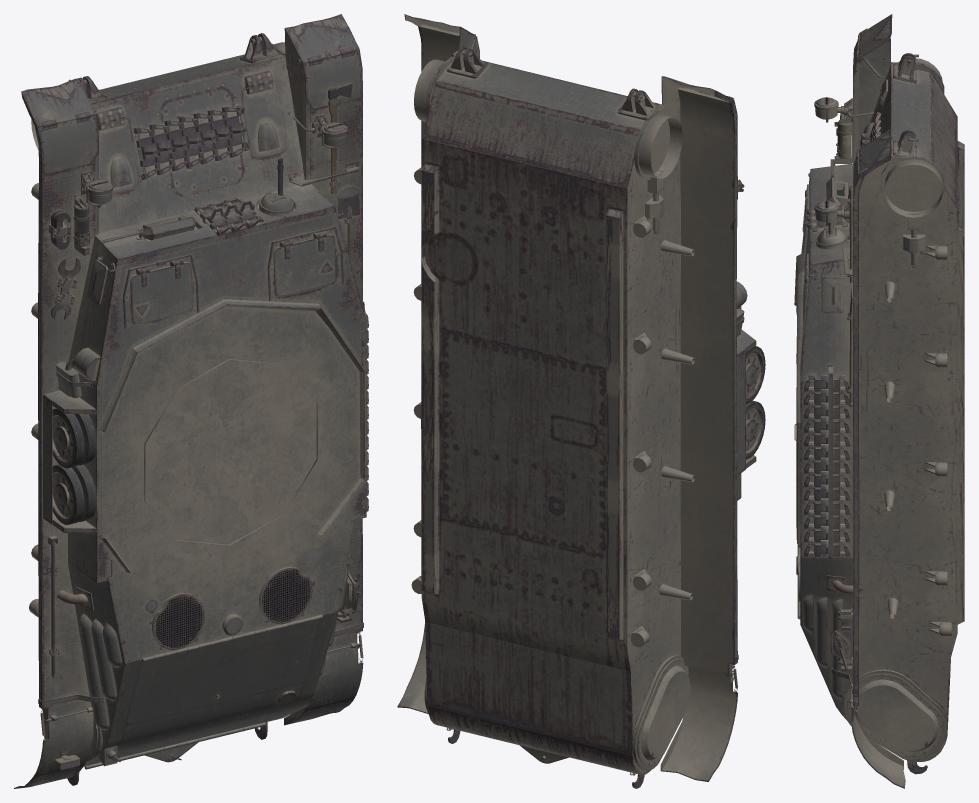
File: Hull.glb
3 views of the same model, side by side, from view 1: azimuth 30°, elevation 25°; view 2: azimuth 150°, elevation 25°; view 3: azimuth 270°, elevation 25° (orthographic). The views are drawn at different scales.
Parts seen in each view (by area): view 1: set_0_group_0; view 2: set_0_group_0; view 3: set_0_group_0.
Boxes of the visible parts, x1,y1,x2,y2 form: set_0_group_0: (14,14,368,788); set_0_group_0: (397,14,765,788); set_0_group_0: (794,14,964,788).
Bounding box in the file's own units: 2.89 × 6.17 × 1.47.
Materials: 1 (1 with a texture image).
